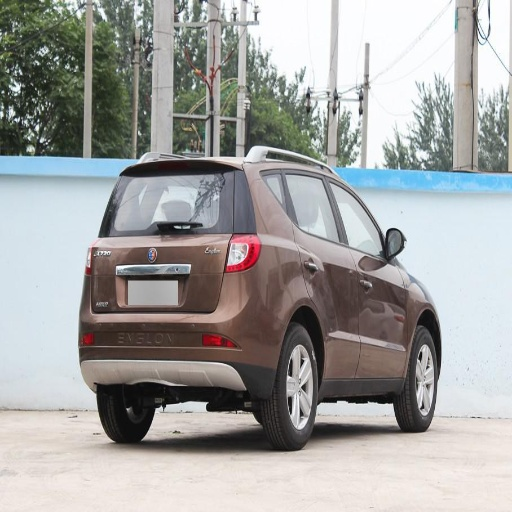back_bumper: (81, 270, 285, 392)
back_right_door: (283, 166, 359, 380)
trunk: (88, 236, 231, 347)
